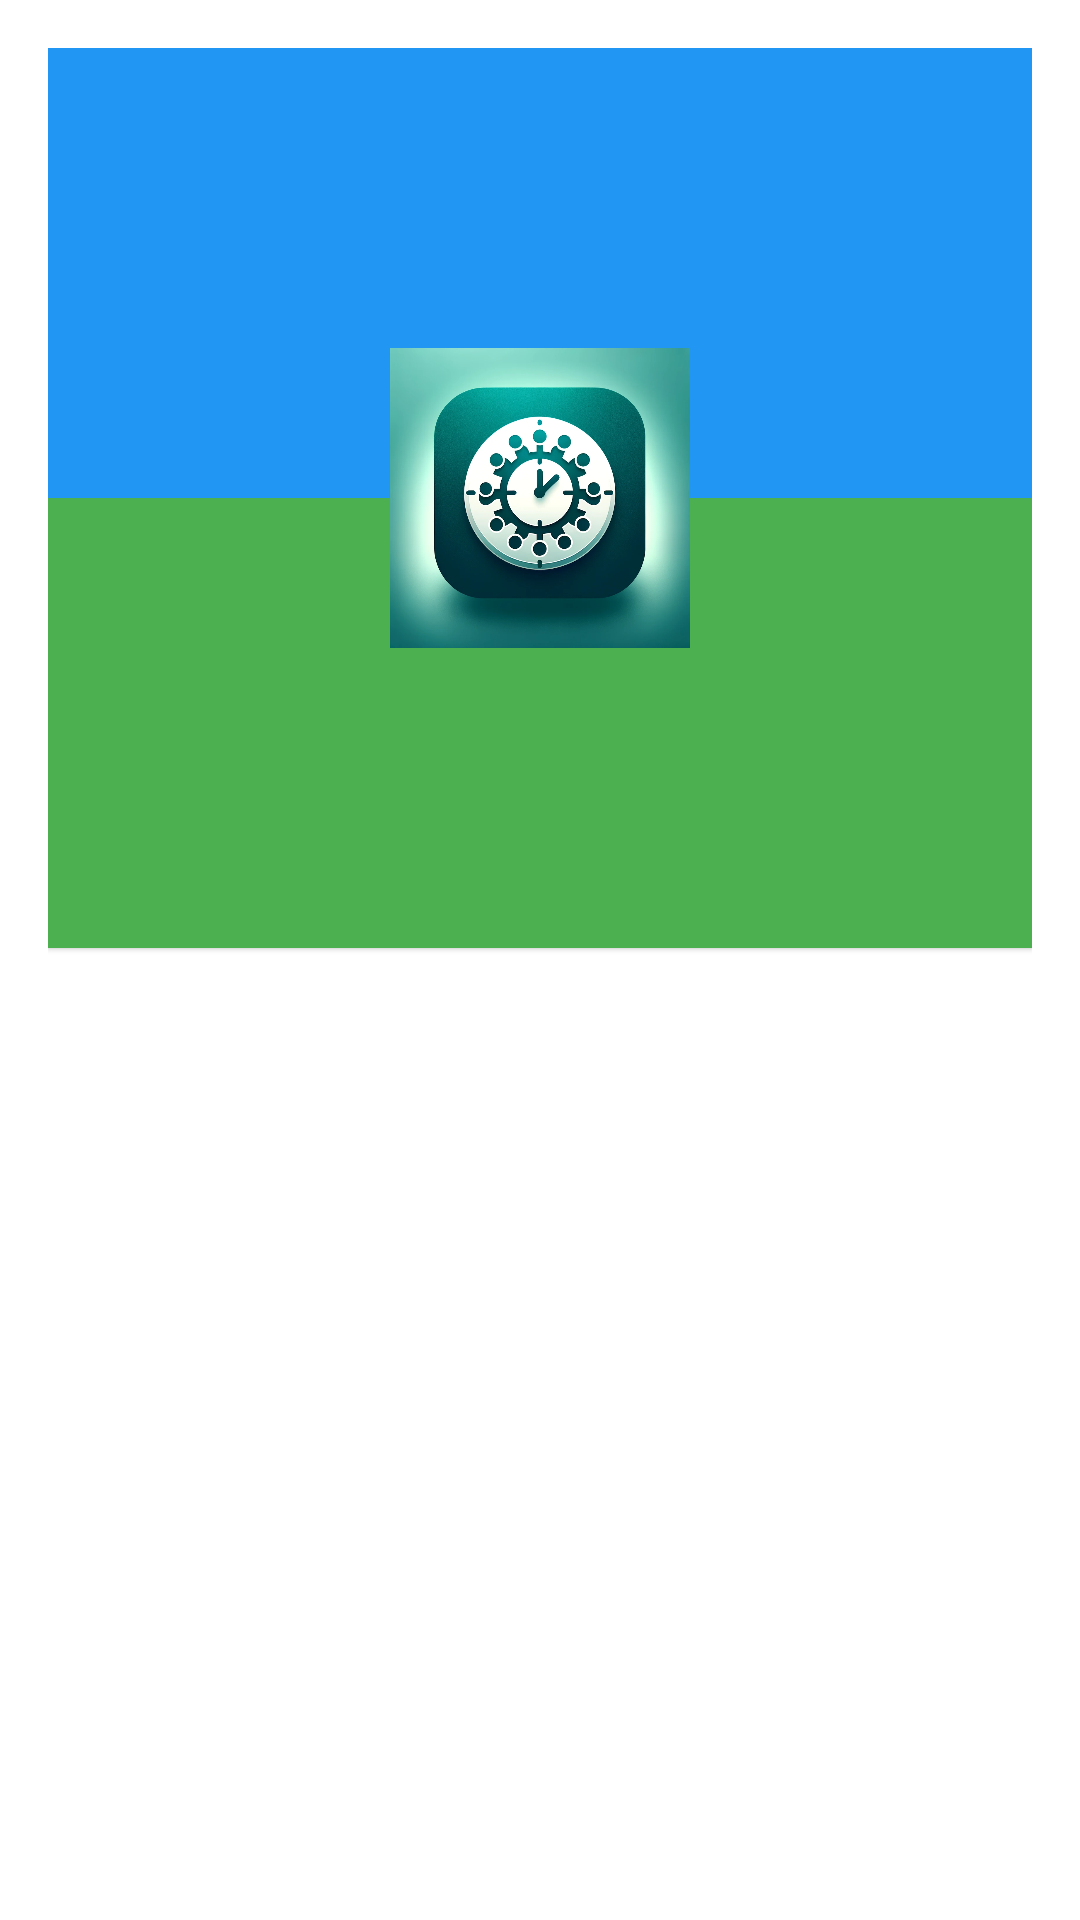

Icon click points for this 1080w x 1920h phone screenshot, format [x,y]:
app: [540,498]
